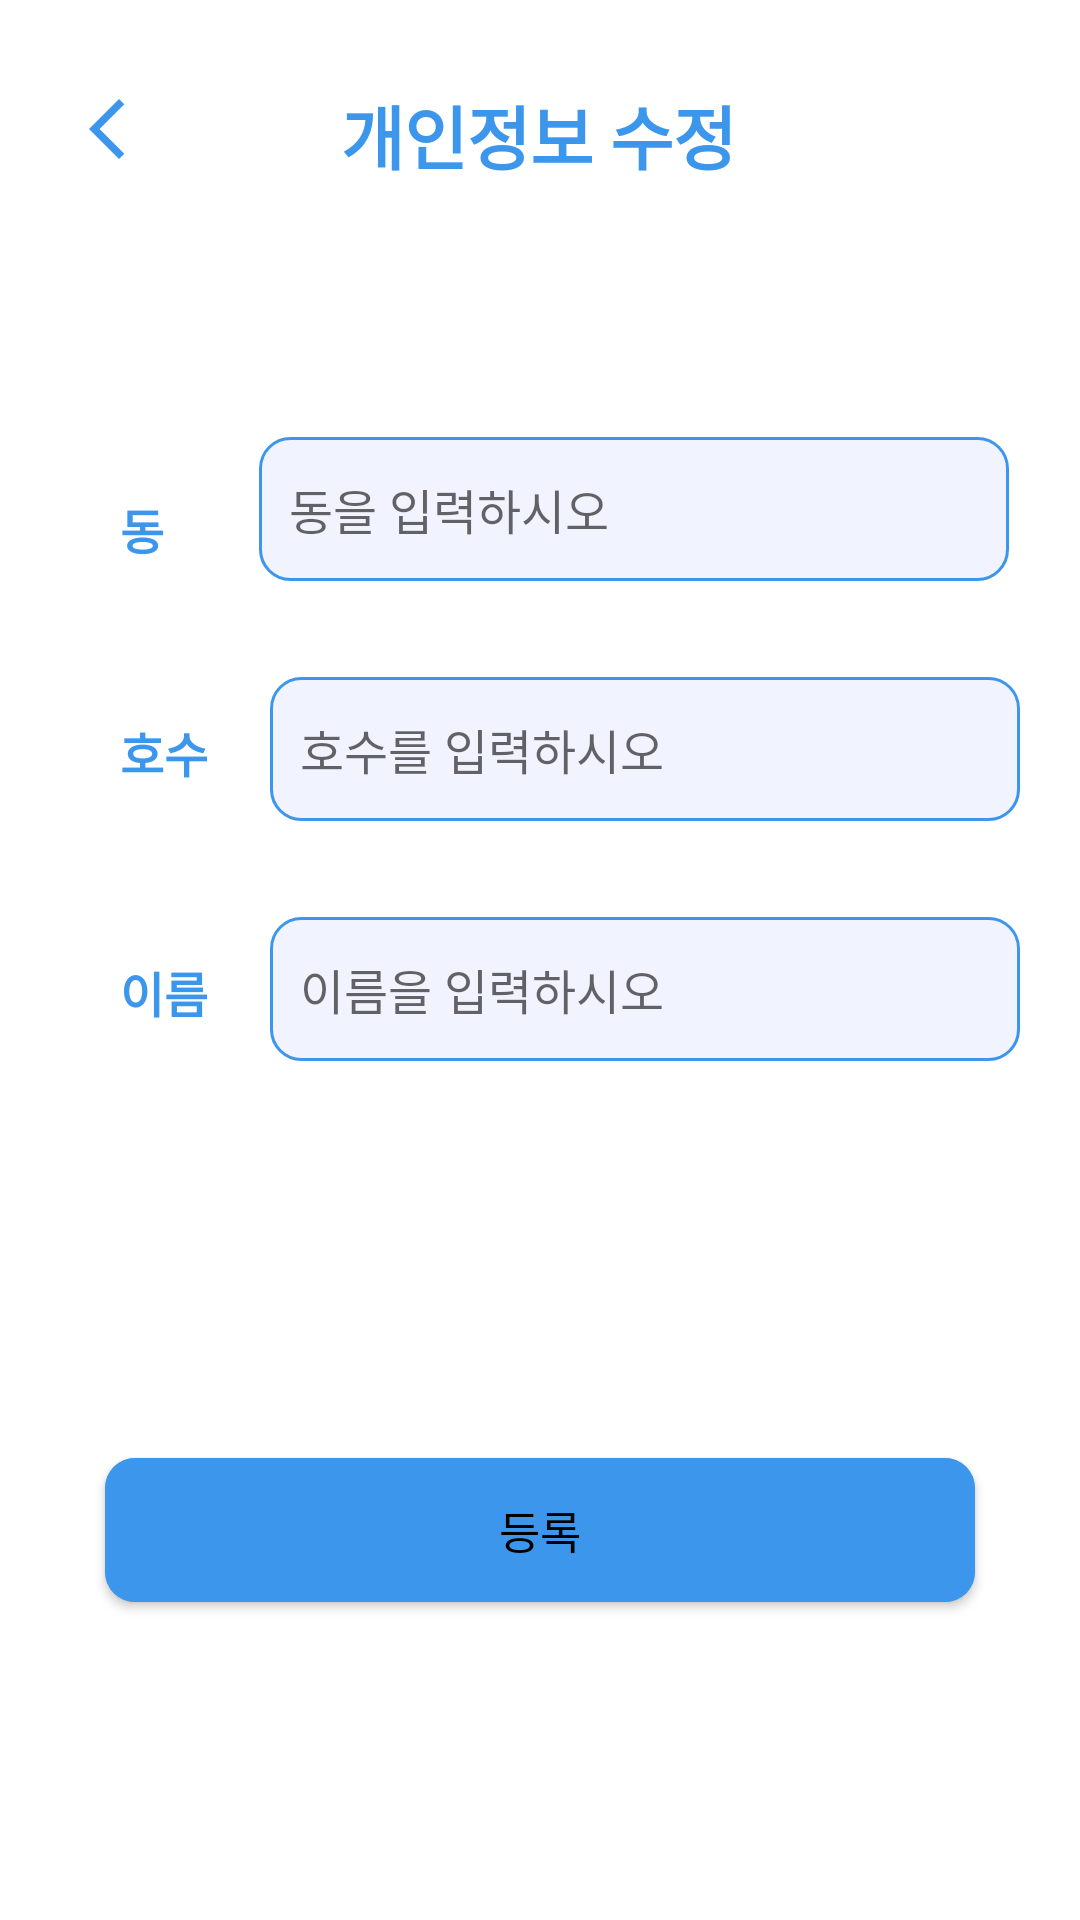

Locate icon controls on the screen. Image size 1080px x 1920px, boxes as (x1, y1, x2, y2).
arrow back: (89, 99, 124, 159)
